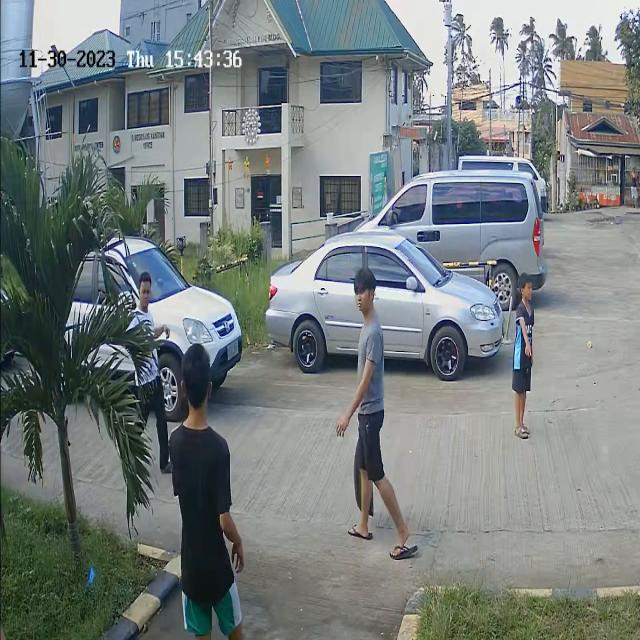person: (173, 340, 224, 516), (347, 263, 385, 429), (132, 270, 163, 405), (512, 275, 534, 400)
